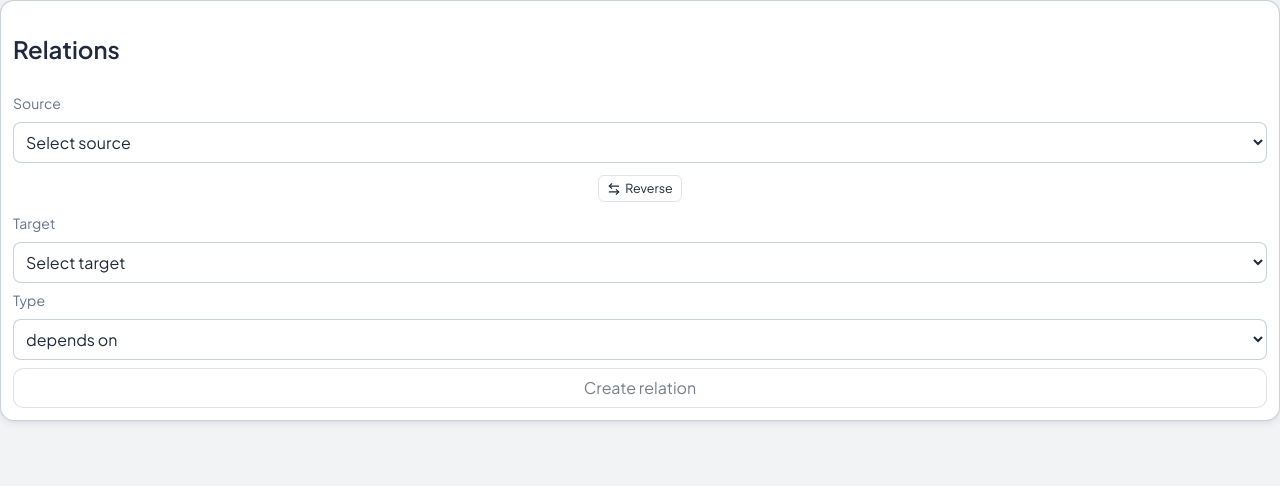
RelationPanel › shows non-blocking warning for suggested N1 relation restrictions
Step 1. Select "Database" in the dropdown labelled "Source" → (640, 142), box 13,122 -> 1267,163
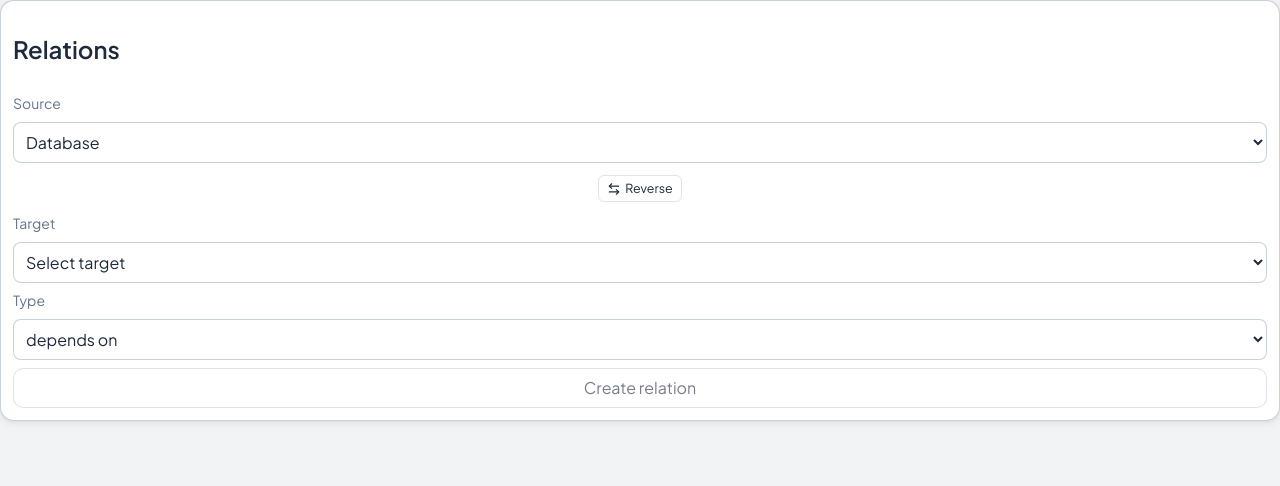
Step 2. Select "API" in the dropdown labelled "Target" → (640, 263), box 13,242 -> 1267,283
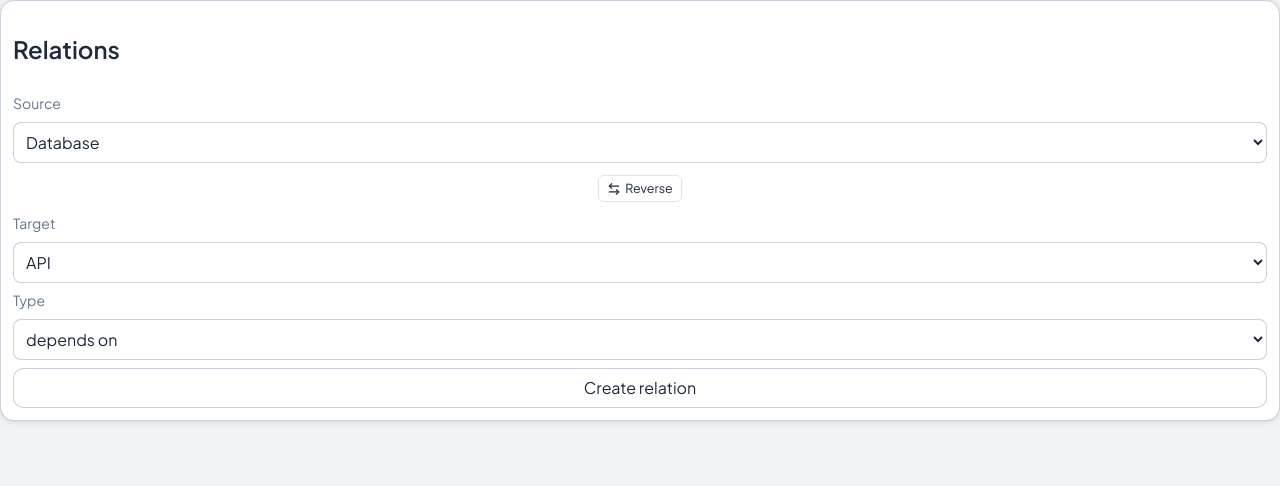
Step 3. Select "calls" in the dropdown labelled "Type" → (640, 339), box 13,319 -> 1267,360
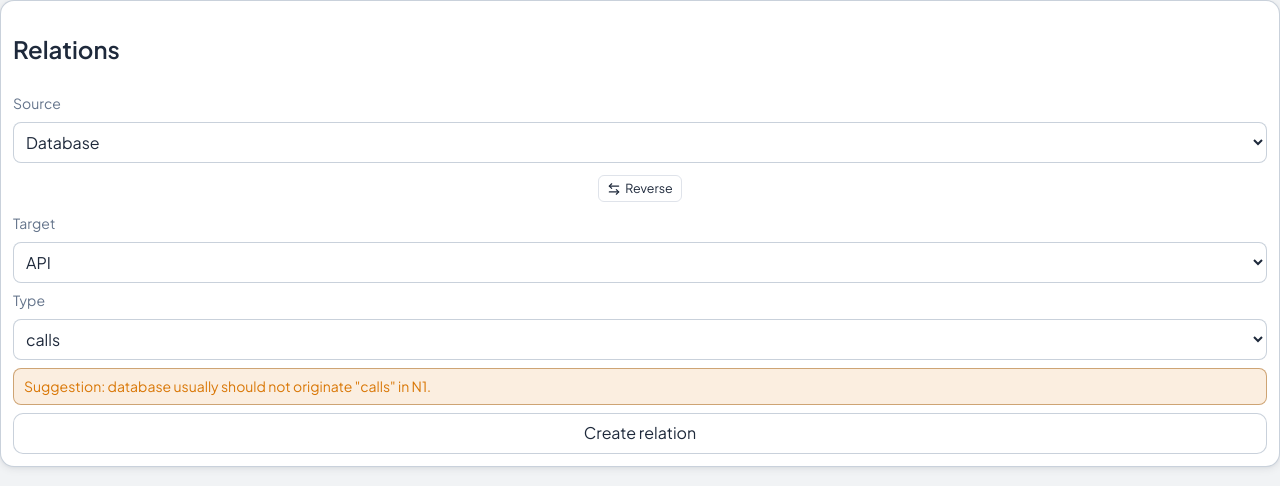
Now the text "database usually should not originate" is shown, box 24,377 -> 431,395
